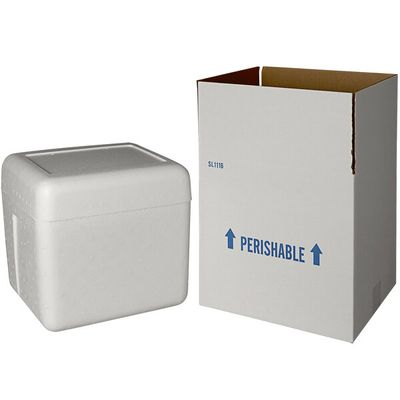泡沫箱: (2, 143, 190, 330)
